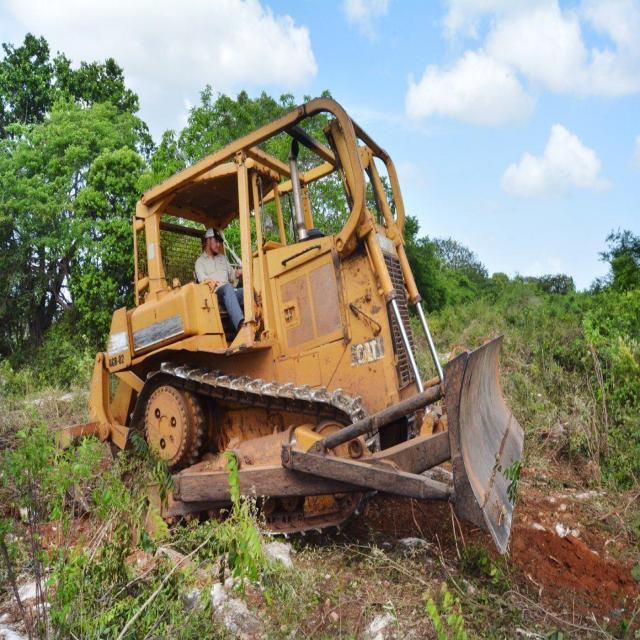Bulldozer: (100, 86, 545, 592)
